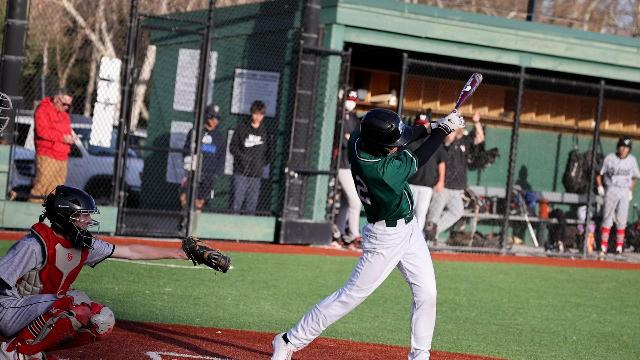baseball bat: (452, 71, 483, 113)
